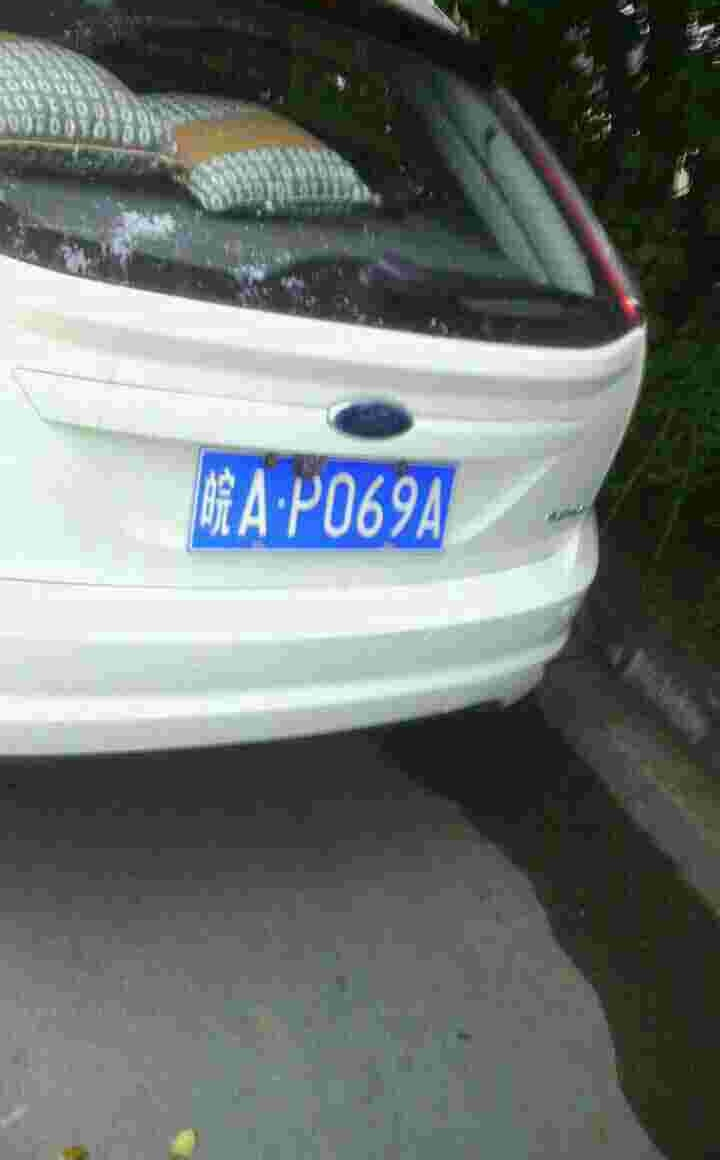license_plate: (200, 455, 457, 554)
